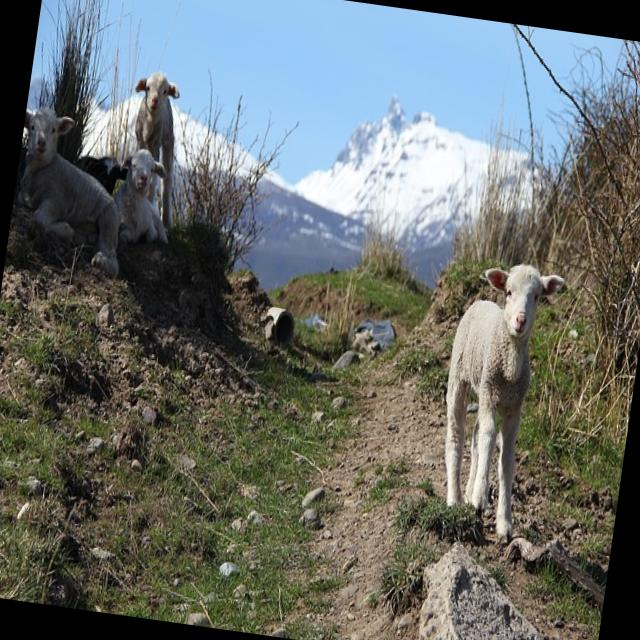sheep: (390, 210, 578, 630)
